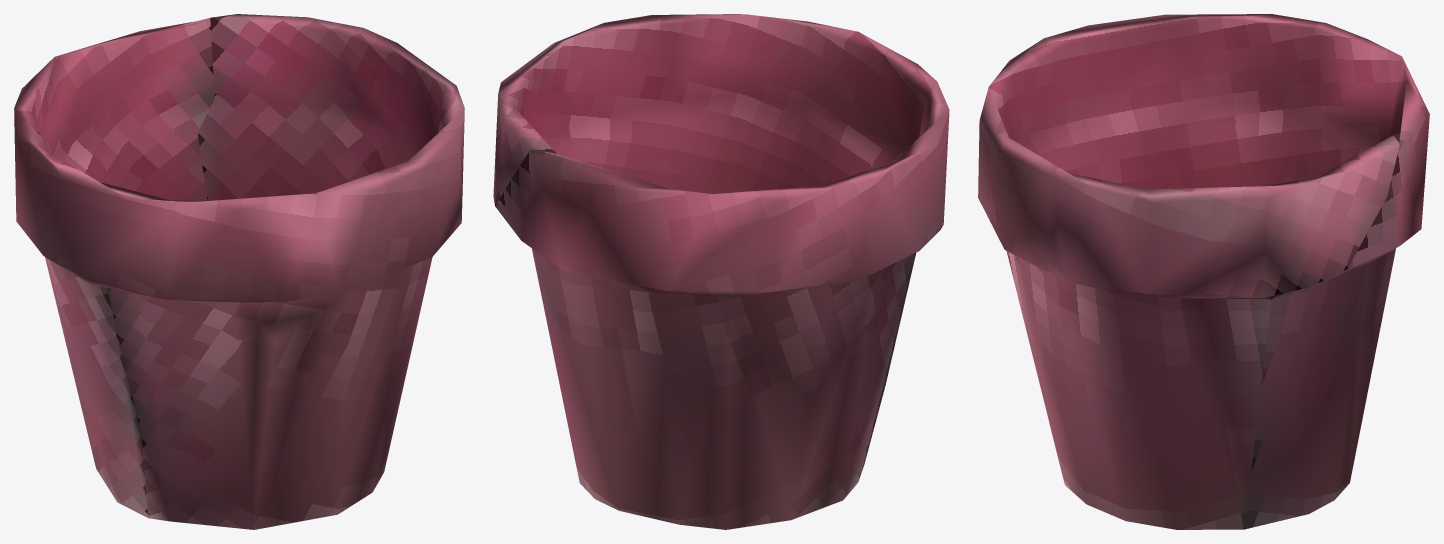
File: Cole_Hardware_Electric_Pot_Assortment_55-low.glb
The picture shows the model from 3 angles, left to right: view 1: azimuth 30°, elevation 25°; view 2: azimuth 150°, elevation 25°; view 3: azimuth 270°, elevation 25°; orthographic projection.
Parts seen in each view (by area): view 1: Cole_Hardware_Electric_Pot_Assortment_55; view 2: Cole_Hardware_Electric_Pot_Assortment_55; view 3: Cole_Hardware_Electric_Pot_Assortment_55.
Part boxes in pixels (x1=…): Cole_Hardware_Electric_Pot_Assortment_55: x1=14, y1=14, x2=464, y2=529; Cole_Hardware_Electric_Pot_Assortment_55: x1=493, y1=14, x2=949, y2=529; Cole_Hardware_Electric_Pot_Assortment_55: x1=978, y1=14, x2=1429, y2=529.
Size of the model in its own units: 0.14 by 0.1273 by 0.1389.
Materials: 1 (1 with a texture image).
